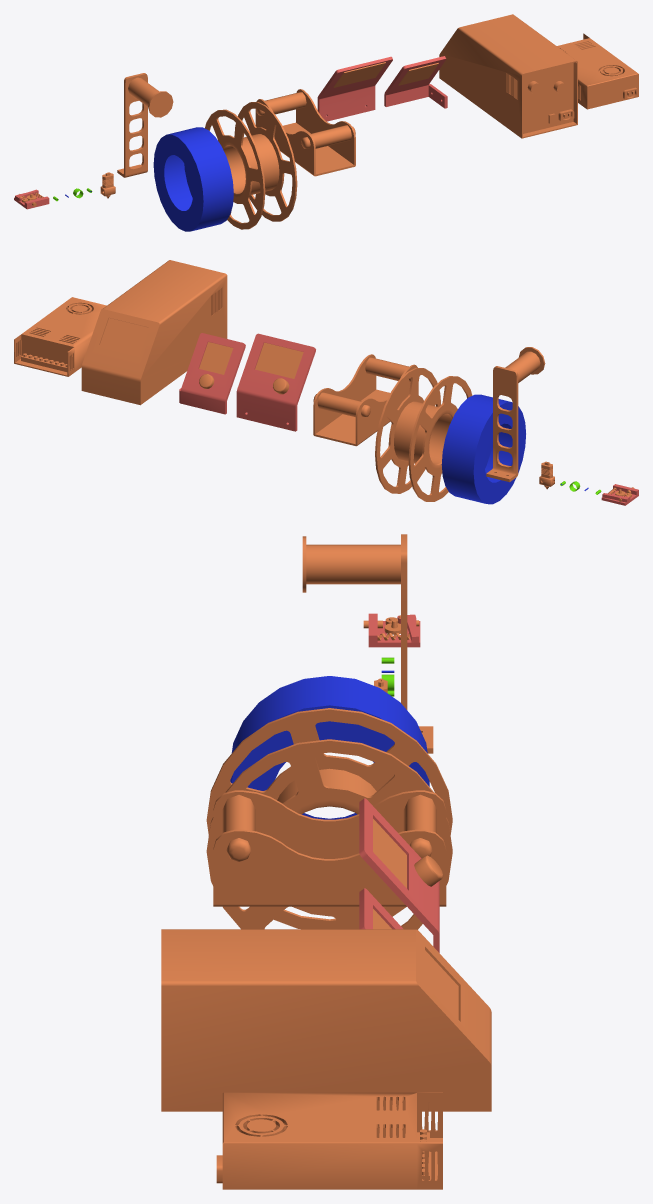
Rendered from Parts_1.fbx.
3 renders of one model, top to bottom at view 1: azimuth 30°, elevation 25°; view 2: azimuth 150°, elevation 25°; view 3: azimuth 270°, elevation 25°, orthographic. The views are drawn at different scales.
Parts seen in each view (by area): view 1: ControlBox_LOD0, SpoolFilament_LOD0, Spool_LOD0, SpoolRoller_LOD0, PSU_LOD0, BigScreen_LOD0, SpoolSupport_LOD0, Screen_LOD0, Driver_LOD0; view 2: ControlBox_LOD0, Spool_LOD0, SpoolFilament_LOD0, BigScreen_LOD0, SpoolRoller_LOD0, PSU_LOD0, Screen_LOD0, SpoolSupport_LOD0, Driver_LOD0; view 3: ControlBox_LOD0, PSU_LOD0, SpoolRoller_LOD0, Spool_LOD0, SpoolFilament_LOD0, SpoolSupport_LOD0, BigScreen_LOD0, Driver_LOD0, Screen_LOD0.
Part boxes in pixels (left/top/right/bottom): ControlBox_LOD0: left=439, top=14, right=577, bottom=138; SpoolFilament_LOD0: left=153, top=127, right=233, bottom=231; Spool_LOD0: left=205, top=102, right=297, bottom=229; SpoolRoller_LOD0: left=255, top=89, right=355, bottom=176; PSU_LOD0: left=557, top=33, right=638, bottom=109; BigScreen_LOD0: left=317, top=56, right=392, bottom=121; SpoolSupport_LOD0: left=117, top=73, right=173, bottom=177; Screen_LOD0: left=384, top=56, right=447, bottom=108; Driver_LOD0: left=14, top=189, right=49, bottom=209; ControlBox_LOD0: left=81, top=260, right=227, bottom=405; Spool_LOD0: left=375, top=368, right=472, bottom=501; SpoolFilament_LOD0: left=441, top=394, right=525, bottom=504; BigScreen_LOD0: left=236, top=333, right=315, bottom=431; SpoolRoller_LOD0: left=313, top=354, right=418, bottom=446; PSU_LOD0: left=14, top=297, right=106, bottom=376; Screen_LOD0: left=179, top=333, right=245, bottom=414; SpoolSupport_LOD0: left=486, top=347, right=545, bottom=482; Driver_LOD0: left=601, top=484, right=638, bottom=505; ControlBox_LOD0: left=161, top=929, right=491, bottom=1111; PSU_LOD0: left=216, top=1092, right=442, bottom=1189; SpoolRoller_LOD0: left=213, top=790, right=446, bottom=906; Spool_LOD0: left=206, top=708, right=452, bottom=929; SpoolFilament_LOD0: left=230, top=676, right=429, bottom=819; SpoolSupport_LOD0: left=302, top=534, right=433, bottom=753; BigScreen_LOD0: left=359, top=798, right=443, bottom=952; Driver_LOD0: left=363, top=613, right=420, bottom=647; Screen_LOD0: left=359, top=888, right=403, bottom=929.
Size of what is drawn, in the model's own units: 0.1027 by 0.0255 by 0.0269.
